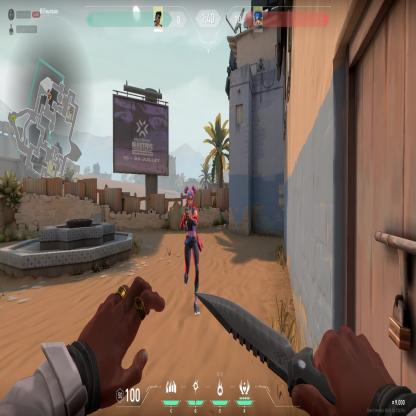enemy: (179, 183, 202, 317)
